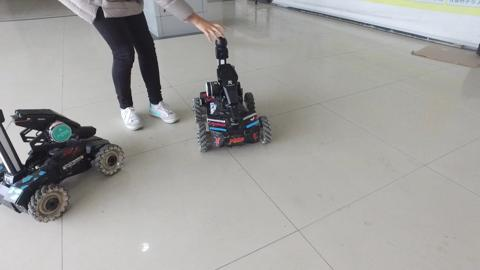chariot: (1, 97, 125, 223), (185, 33, 276, 162)
